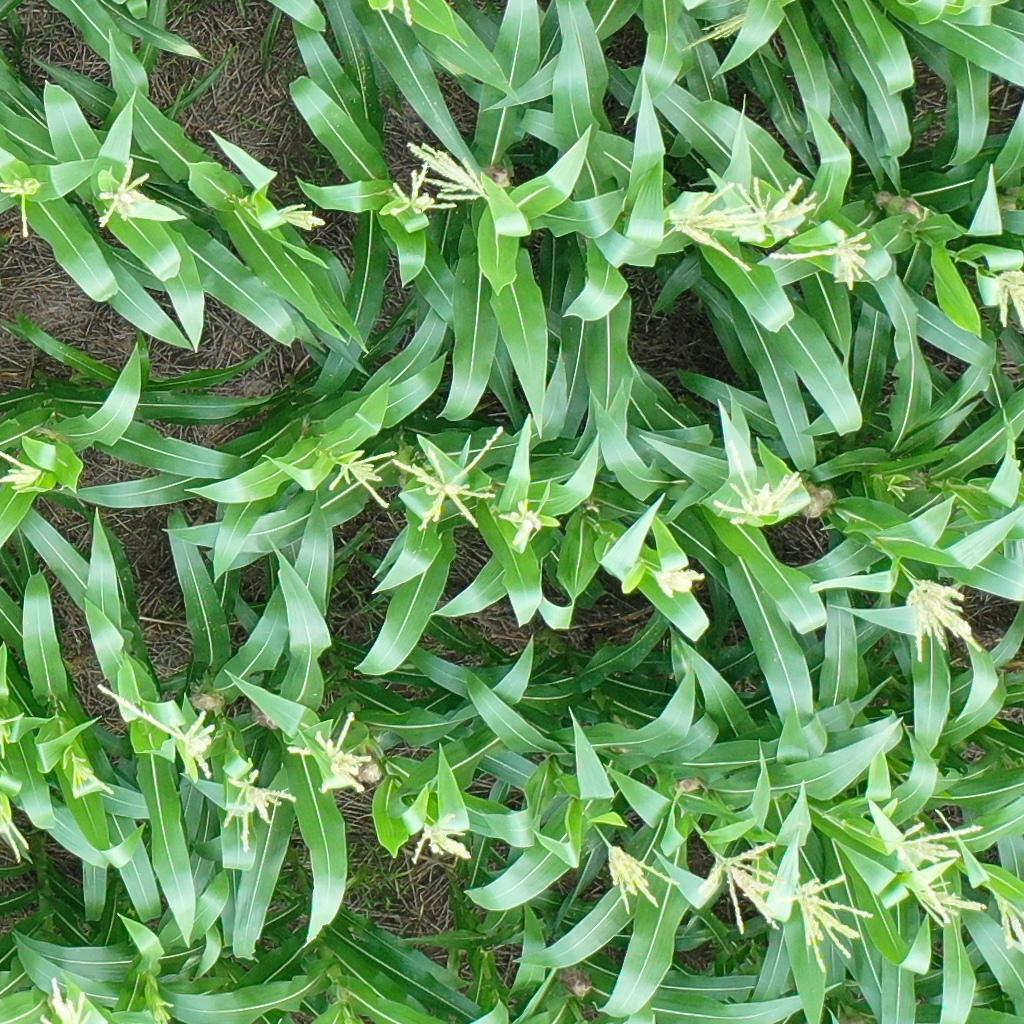Tassel: (96, 659, 226, 781), (390, 419, 506, 532), (660, 173, 756, 274), (787, 870, 872, 976), (288, 708, 380, 798), (700, 840, 785, 935), (900, 577, 988, 663), (712, 443, 803, 524), (765, 228, 874, 290), (218, 771, 294, 853), (604, 840, 682, 917), (406, 135, 490, 204), (886, 813, 982, 870), (735, 170, 818, 231), (93, 159, 155, 233), (906, 872, 990, 926), (325, 448, 399, 506), (405, 811, 475, 870), (386, 163, 459, 213), (672, 10, 749, 50), (34, 974, 93, 1024), (646, 559, 709, 604), (62, 748, 116, 800), (497, 498, 548, 550), (1, 173, 39, 237), (1, 793, 33, 865), (993, 265, 1024, 330), (1, 448, 44, 492), (277, 198, 327, 234), (997, 895, 1023, 949), (148, 998, 177, 1024)
